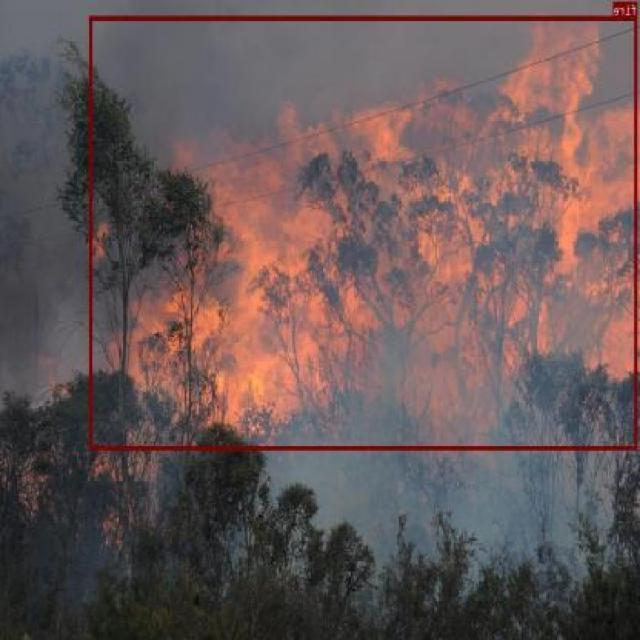Fire: (90, 16, 638, 450)
